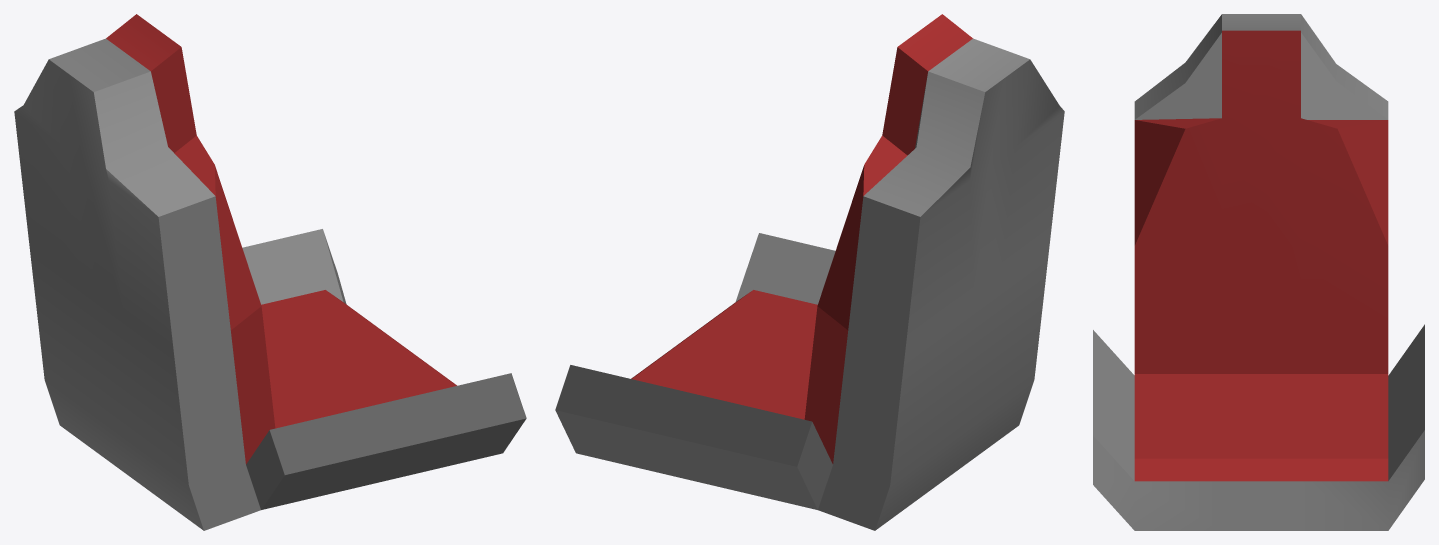
The model's file is SomeChair.fbx.
The picture shows the model from 3 angles, left to right: view 1: azimuth 30°, elevation 25°; view 2: azimuth 150°, elevation 25°; view 3: azimuth 270°, elevation 25°; orthographic projection. The views are drawn at different scales.
Parts seen in each view (by area): view 1: Chair; view 2: Chair; view 3: Chair.
Boxes of the visible parts, left/top/right/bottom form: Chair: left=14, top=14, right=526, bottom=530; Chair: left=555, top=14, right=1064, bottom=530; Chair: left=1093, top=14, right=1424, bottom=530.
Size of the model in its own units: 139 by 159 by 123.
